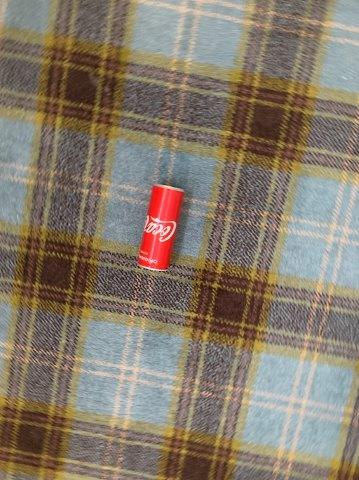kaleng: (136, 184, 185, 271)
